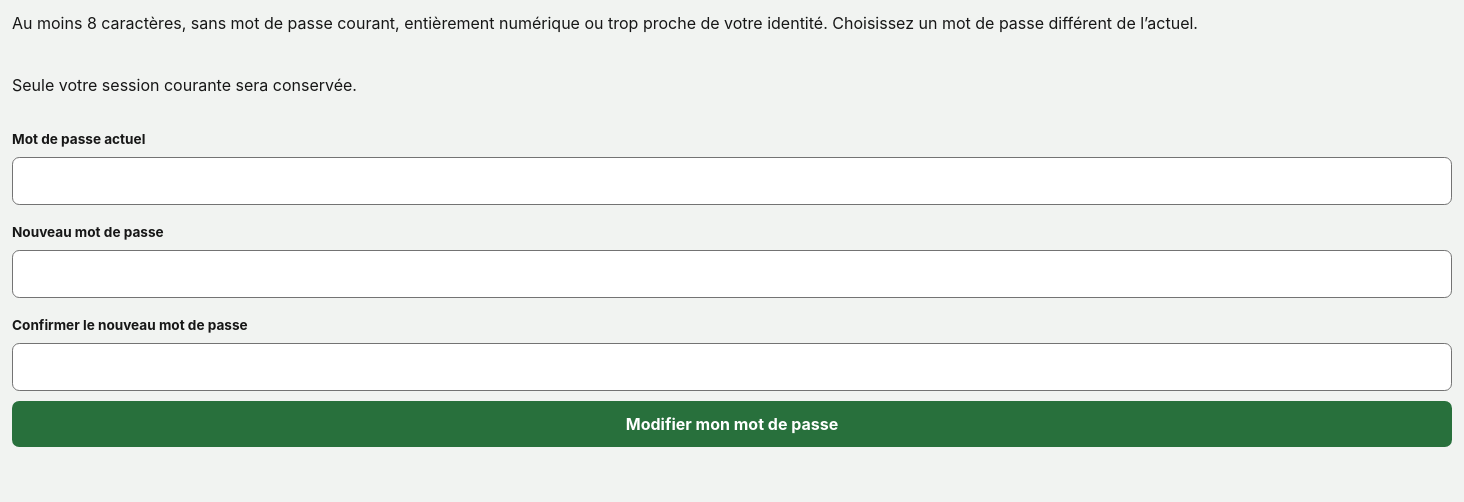
Test: refuses a confirmation mismatch before sending credentials
Step 1. Type "New-test-phrase!" into the password field labelled "Nouveau mot de passe" → (732, 274), box [12, 250, 1452, 298]
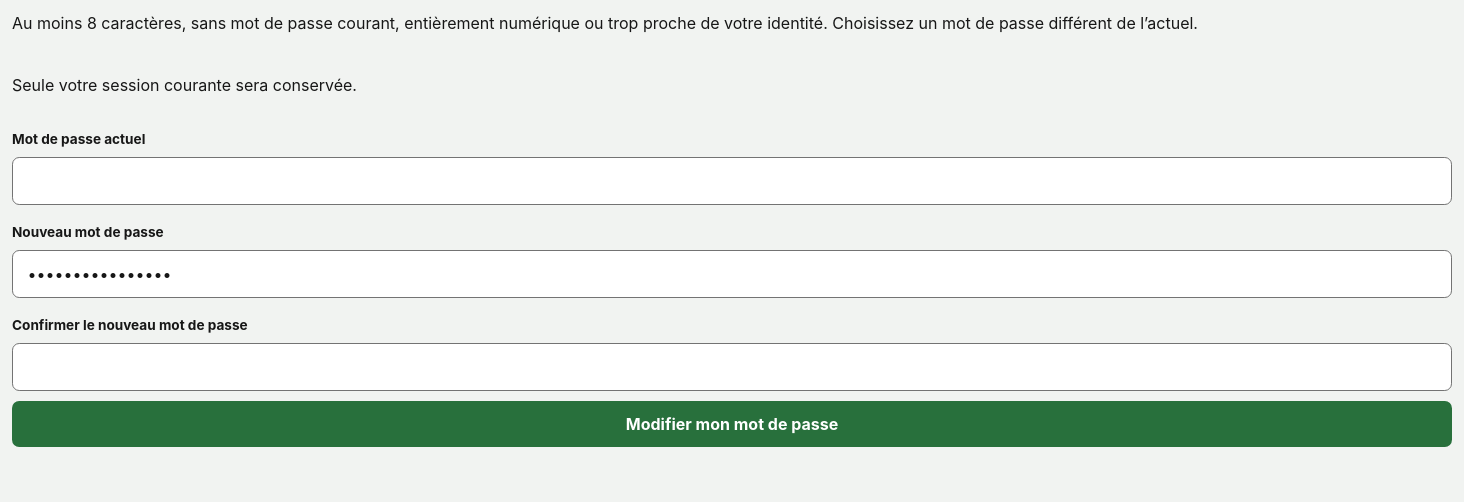
Step 2. Type "Mismatch-test-phrase!" into the password field labelled "Confirmer le nouveau mot de passe" → (732, 367), box [12, 343, 1452, 391]
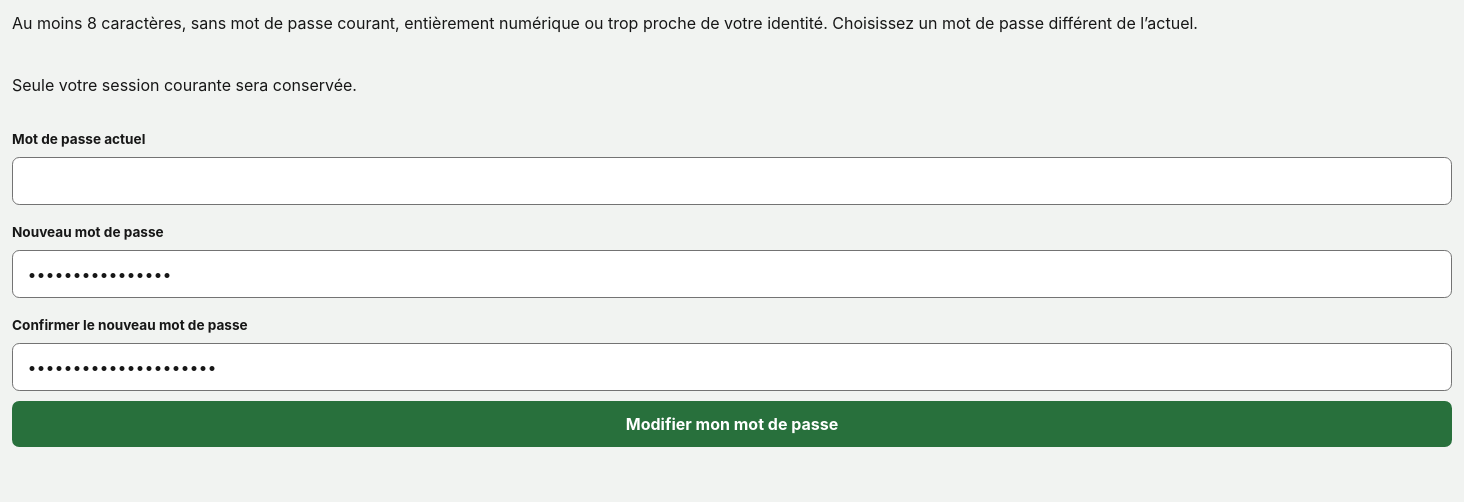
Step 3. Type "Current-test-phrase!" into the password field labelled "Mot de passe actuel" → (732, 181), box [12, 157, 1452, 205]
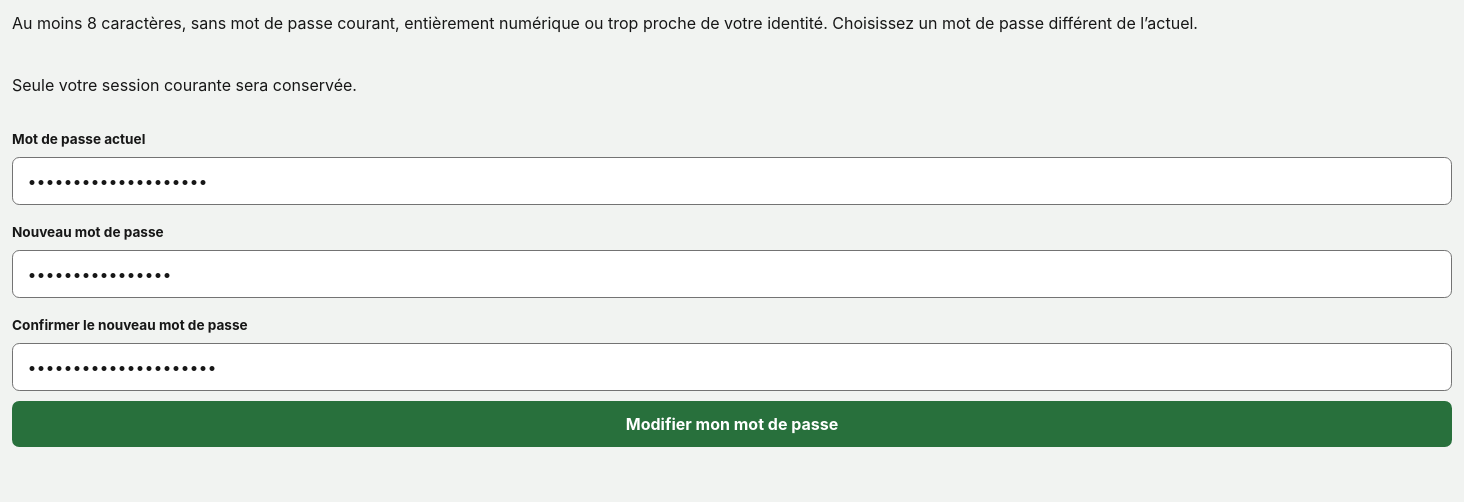
Step 4. Click the button "Modifier mon mot de passe" → click(732, 424), box [12, 401, 1452, 447]
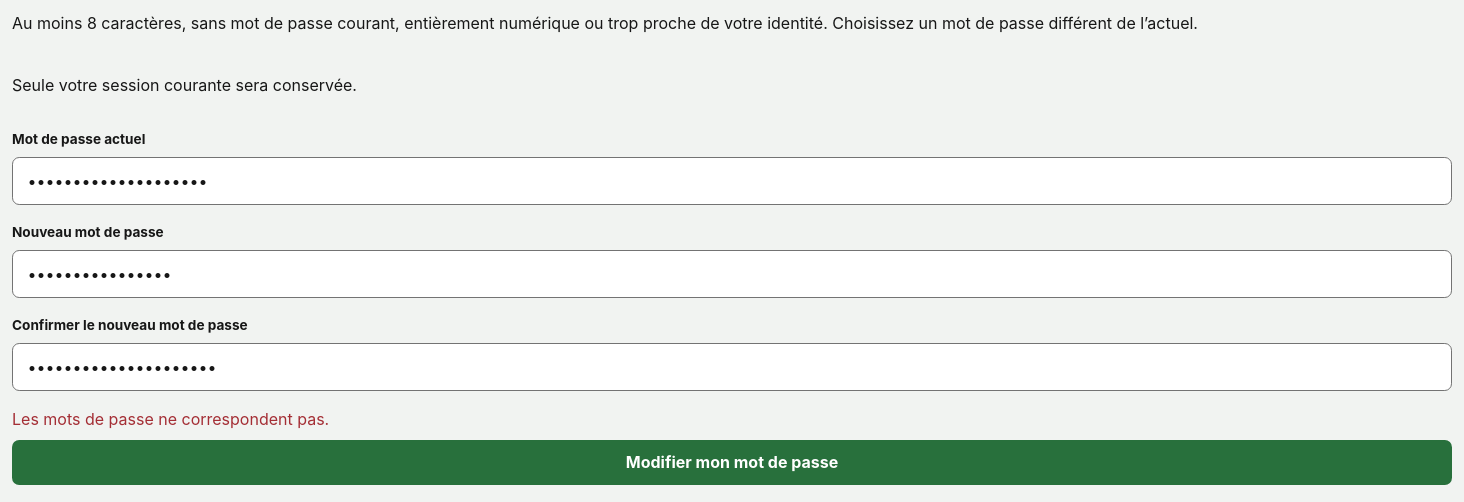
Check: the message shows "ne correspondent pas", box [12, 409, 329, 429]
